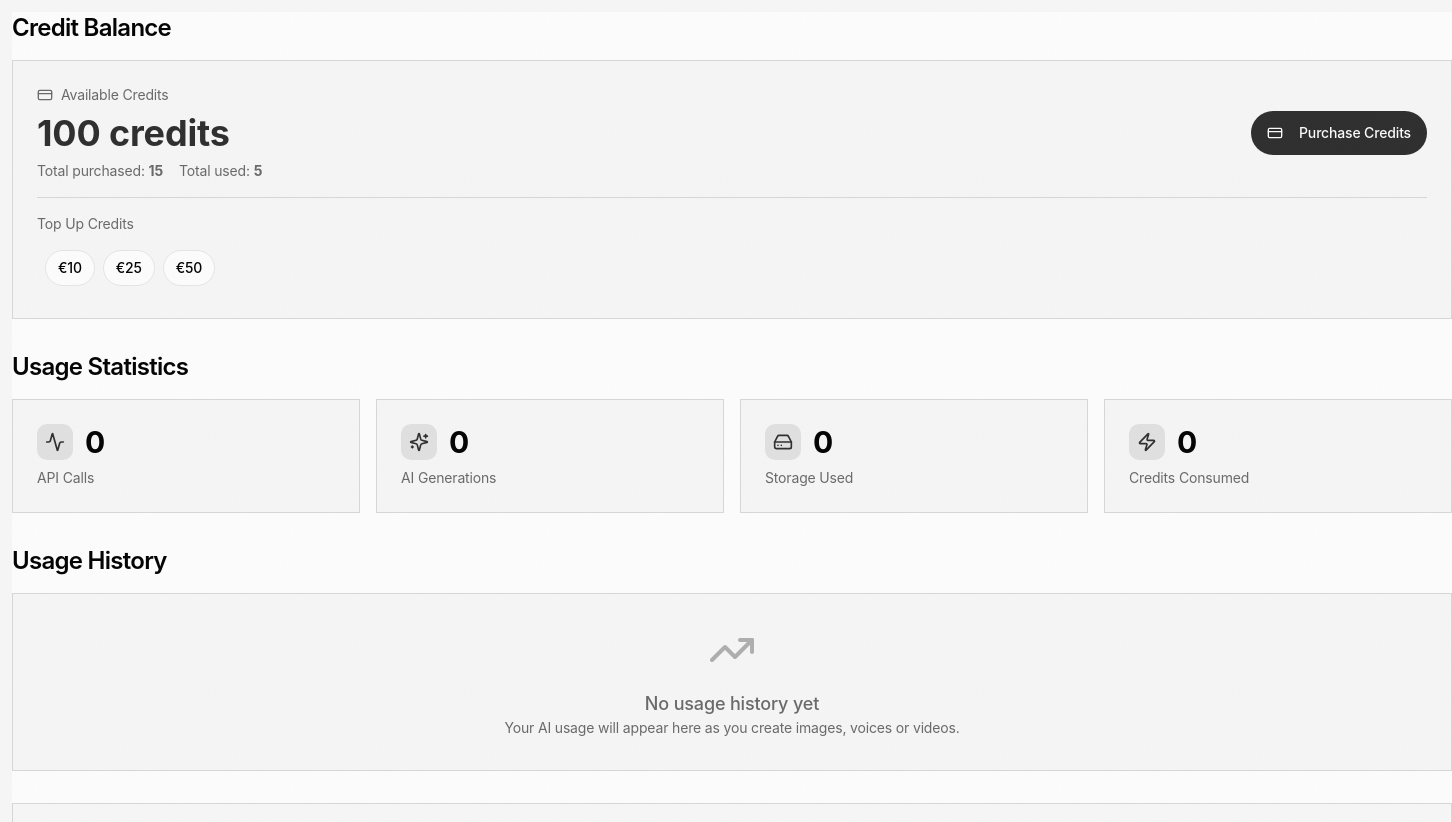
Test case: UsageCreditsTab — manual top-up (amount-input block) › after a successful top-up, the displayed balance reflects the mutation's newBalance
Click the button "€50": (189, 268) [163,250,215,286]
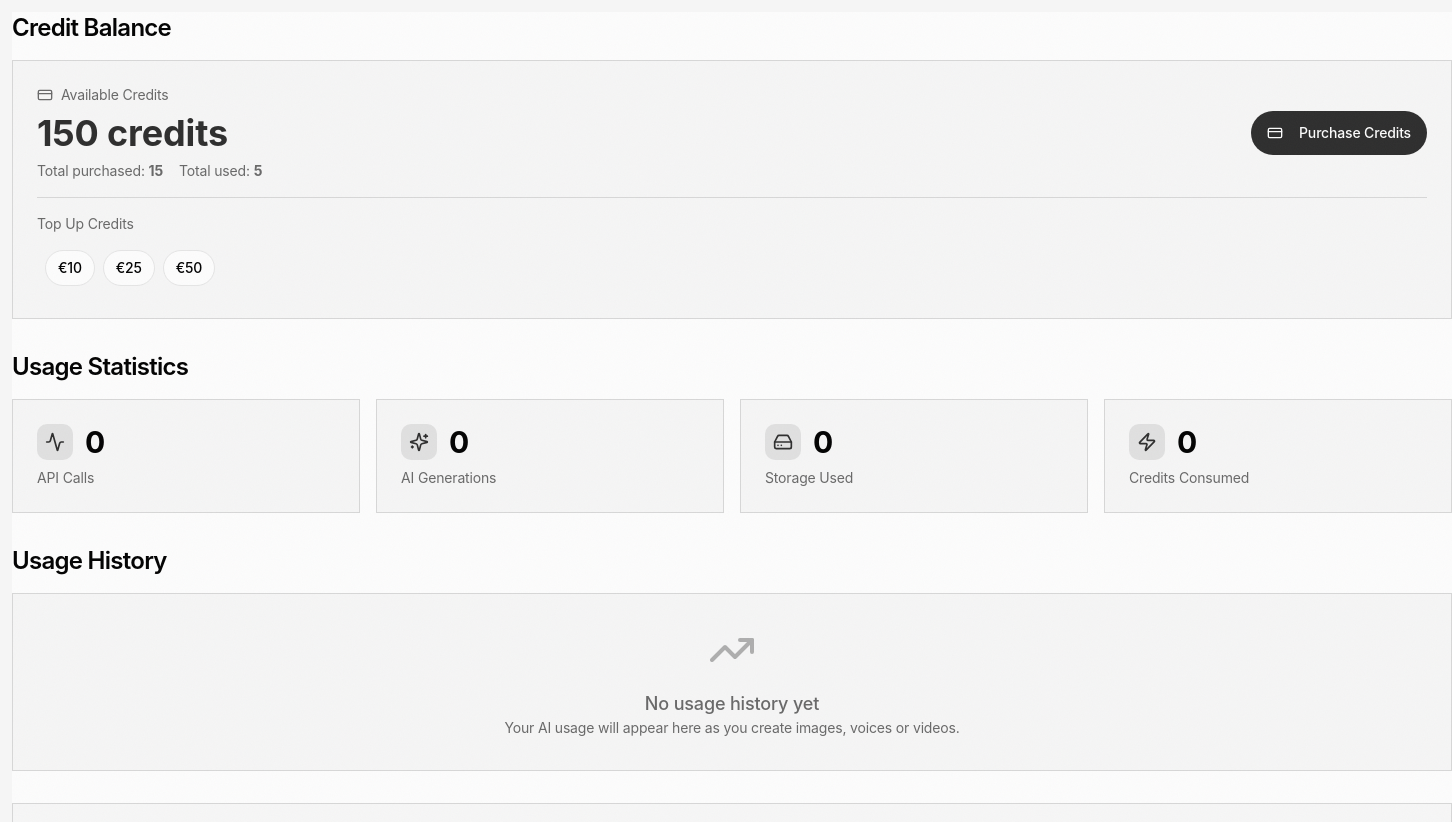
Now the text "150 credits" is shown, box [37,111,228,155]
